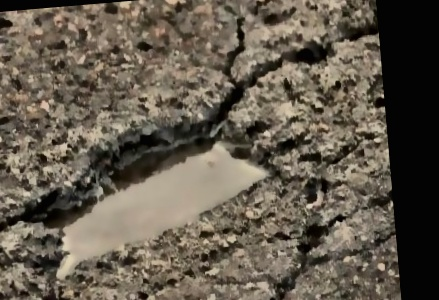pothole: (1, 104, 295, 290)
